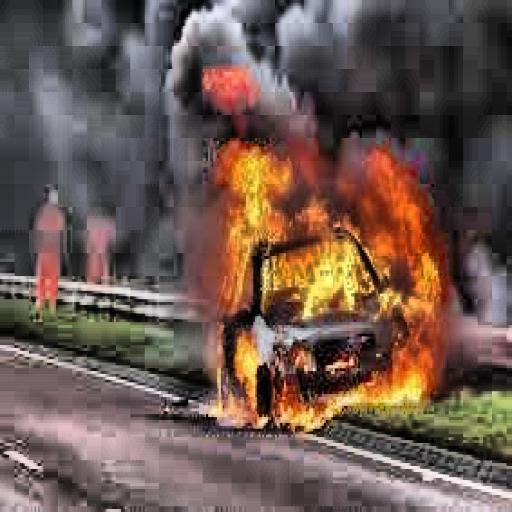fire: (212, 138, 440, 432)
